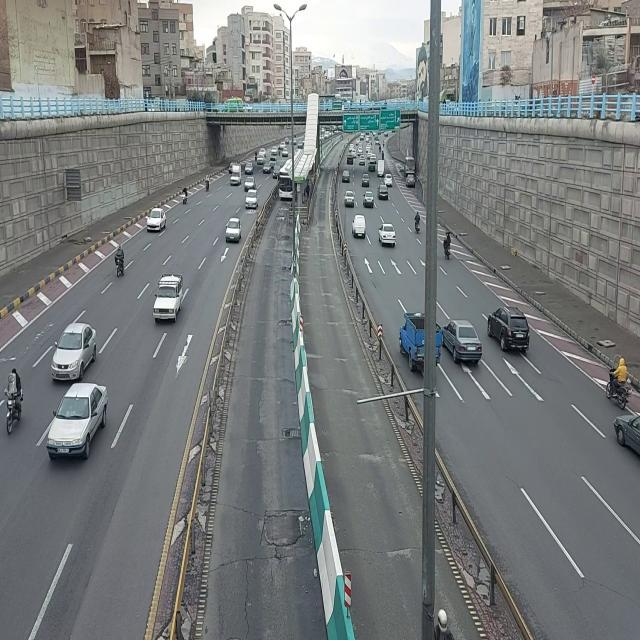Car: (46, 381, 108, 463), (48, 319, 98, 382), (442, 318, 483, 364), (146, 207, 168, 233), (224, 216, 242, 245), (378, 221, 398, 247), (245, 189, 260, 209), (344, 189, 356, 209), (377, 183, 389, 201), (362, 191, 374, 209)
Motorcycle: (605, 355, 632, 413), (3, 367, 25, 435), (114, 241, 126, 278), (443, 230, 453, 260), (414, 210, 422, 236), (181, 186, 189, 206), (205, 172, 211, 192)
Pickup: (153, 273, 183, 323), (350, 214, 366, 240), (230, 163, 242, 187)
